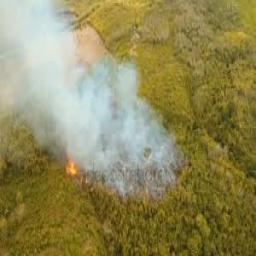Low smoke: (0, 0, 180, 191)
